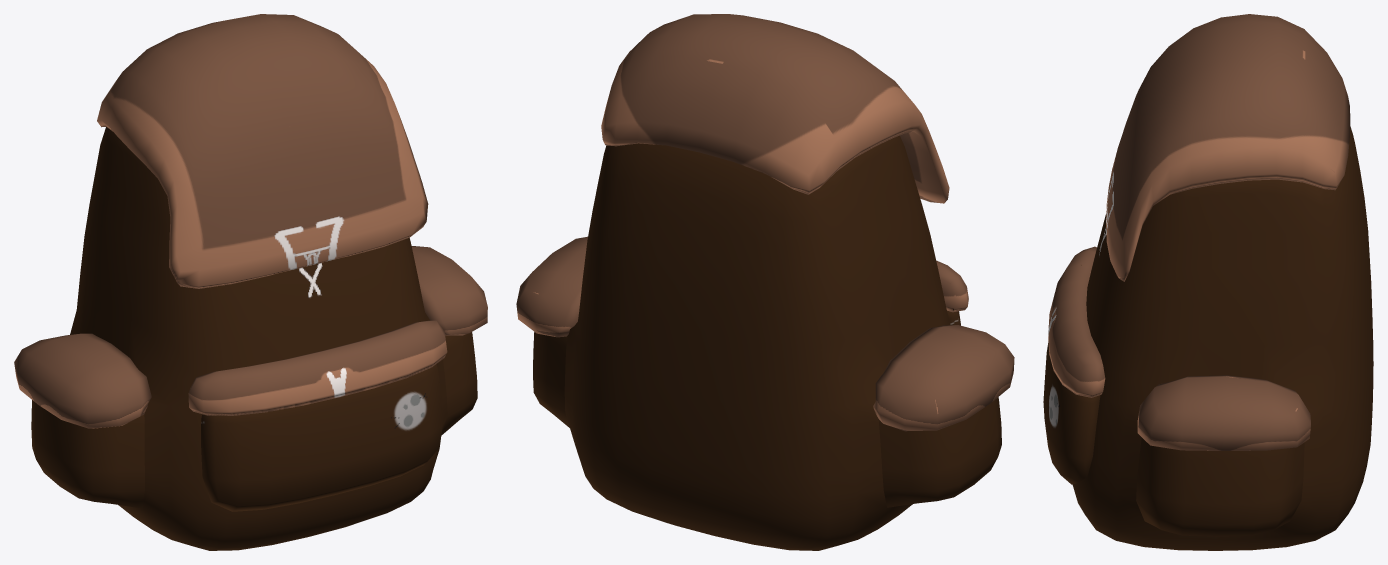
File: Backpack.fbx
3 renders of one model, left to right at view 1: azimuth 30°, elevation 25°; view 2: azimuth 150°, elevation 25°; view 3: azimuth 270°, elevation 25°, orthographic. The views are drawn at different scales.
Parts seen in each view (by area): view 1: Backpack, Big pocket, Front pocket, Left pocket, Right pocket; view 2: Backpack, Big pocket, Left pocket, Right pocket, Front pocket; view 3: Backpack, Big pocket, Right pocket, Front pocket.
Boxes of the visible parts, x1,y1,x2,y2 form: Backpack: (31,127,477,550); Big pocket: (97,14,428,288); Front pocket: (188,320,447,415); Left pocket: (14,333,151,428); Right pocket: (411,246,487,335); Backpack: (533,135,1001,550); Big pocket: (601,14,949,203); Left pocket: (873,325,1014,431); Right pocket: (516,236,587,337); Front pocket: (936,260,968,312); Backpack: (1043,126,1373,550); Big pocket: (1106,14,1350,281); Right pocket: (1137,375,1310,450); Front pocket: (1048,246,1105,397).
Size of the model in its own units: 2.84 by 2.98 by 1.87.
